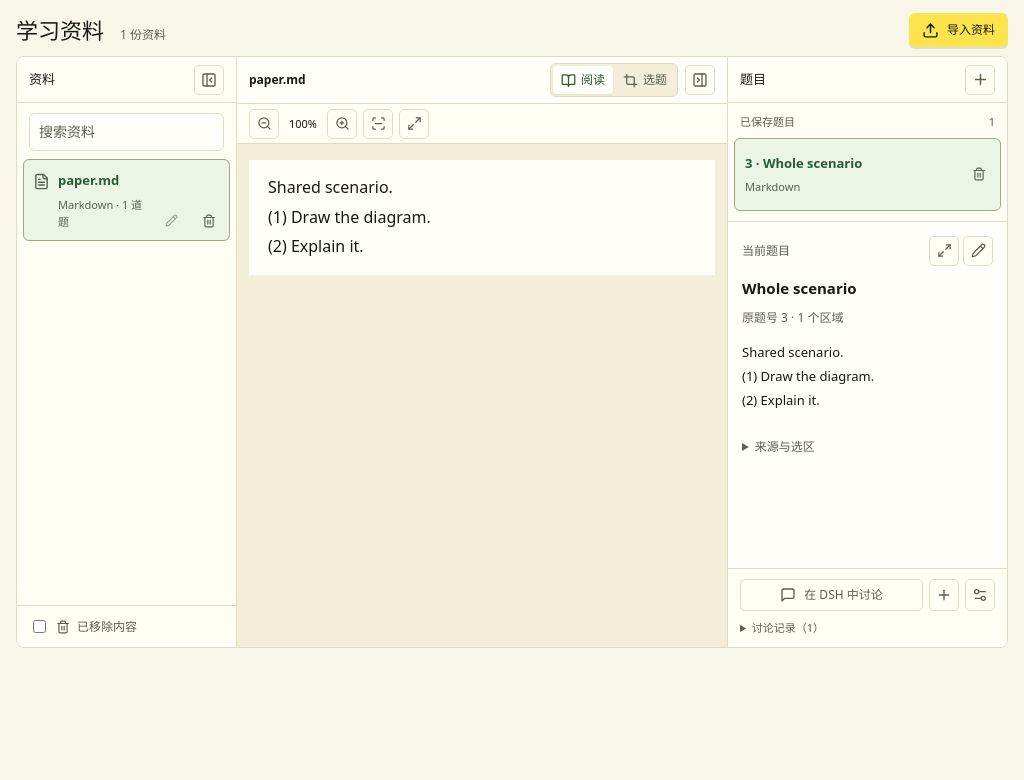
Test case: stops bridge queries for an inactive reader and hides removed question actions
Click the button named "移除题目 1" at {"x": 979, "y": 174}, box [964,159,994,189]
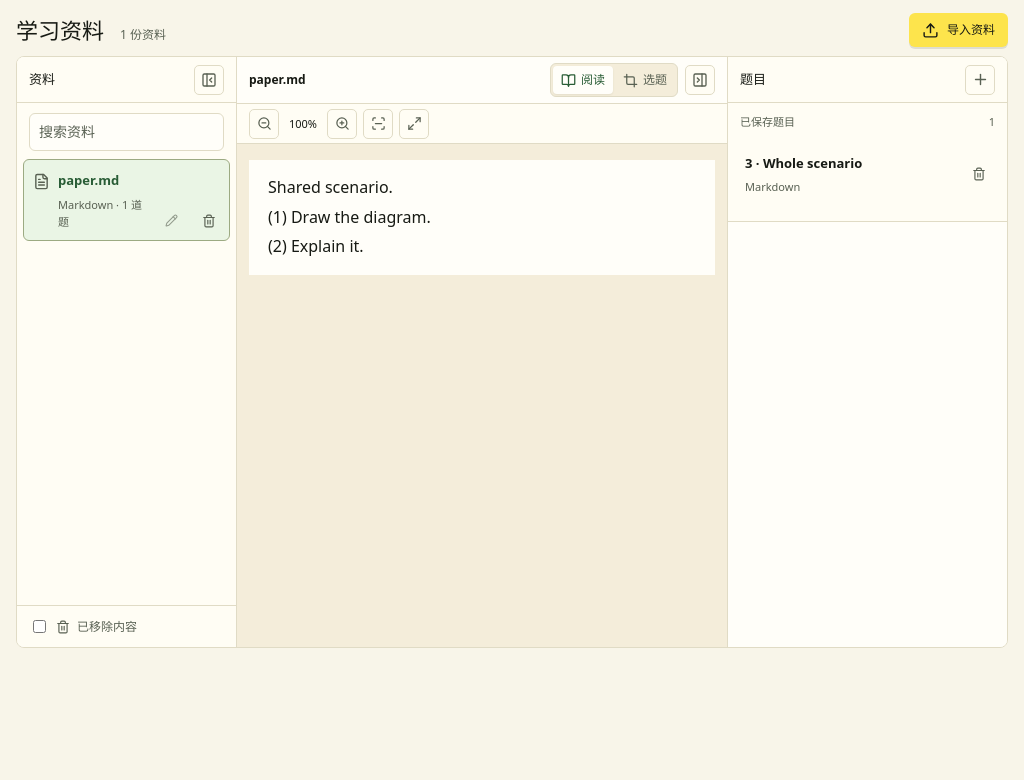
Result: the element with class "dsh-question-actions" is gone
